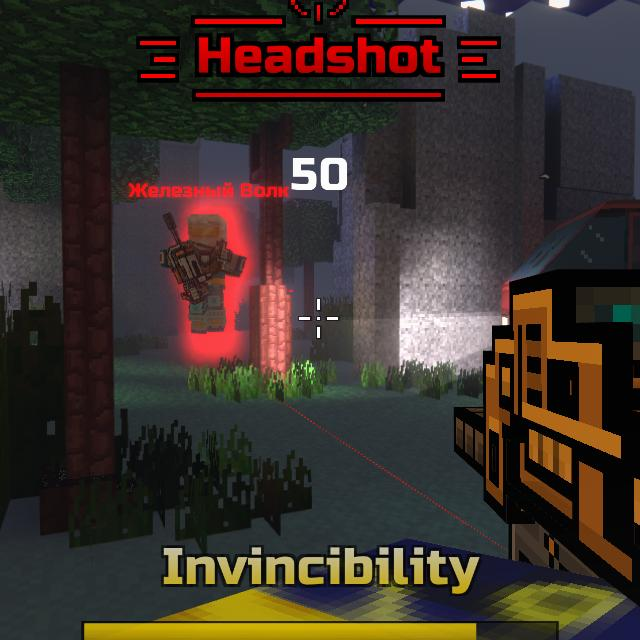Enemy: (162, 215, 248, 336)
